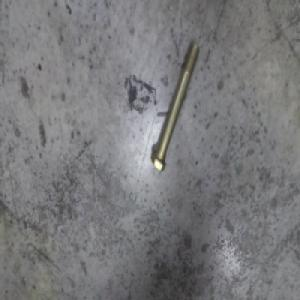Bolt: (150, 40, 199, 171)
